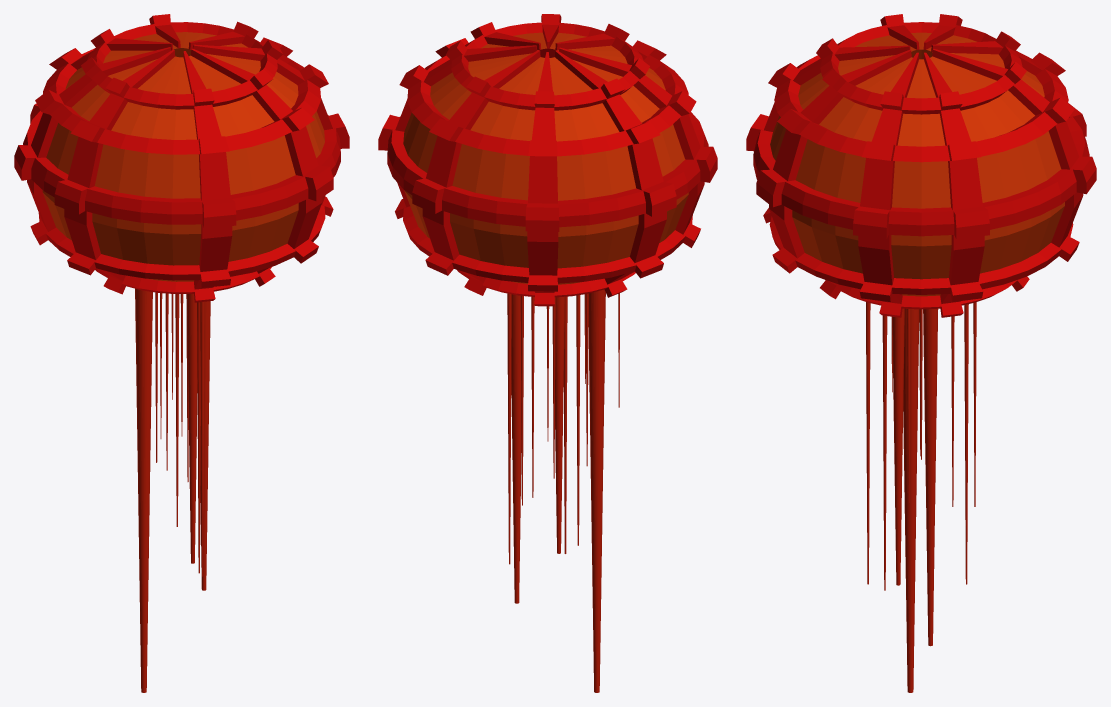
The model's file is lanterns.fbx.
3 renders of one model, left to right at view 1: azimuth 30°, elevation 25°; view 2: azimuth 150°, elevation 25°; view 3: azimuth 270°, elevation 25°, orthographic. The views are drawn at different scales.
Visible parts, largest first — view 1: Cylinder (×3); view 2: Cylinder (×3); view 3: Cylinder (×3).
Boxes of the visible parts, x1,y1,x2,y2 form: Cylinder (×3): (14, 14, 349, 692); Cylinder (×3): (378, 14, 717, 692); Cylinder (×3): (746, 14, 1096, 692).
Bounding box in the file's own units: 226 × 473 × 226.
